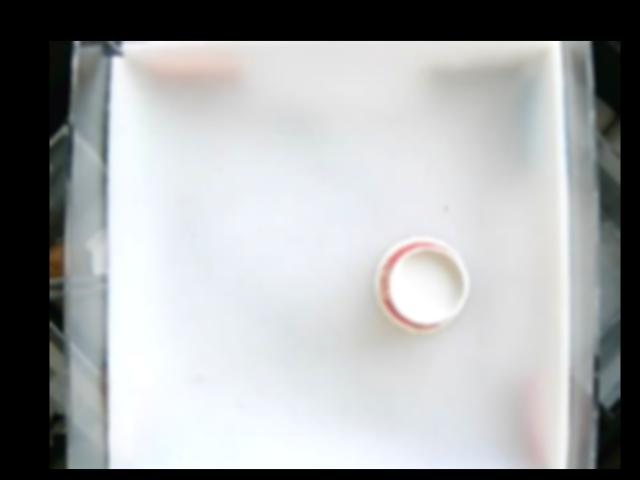Cup: (376, 234, 470, 332)
